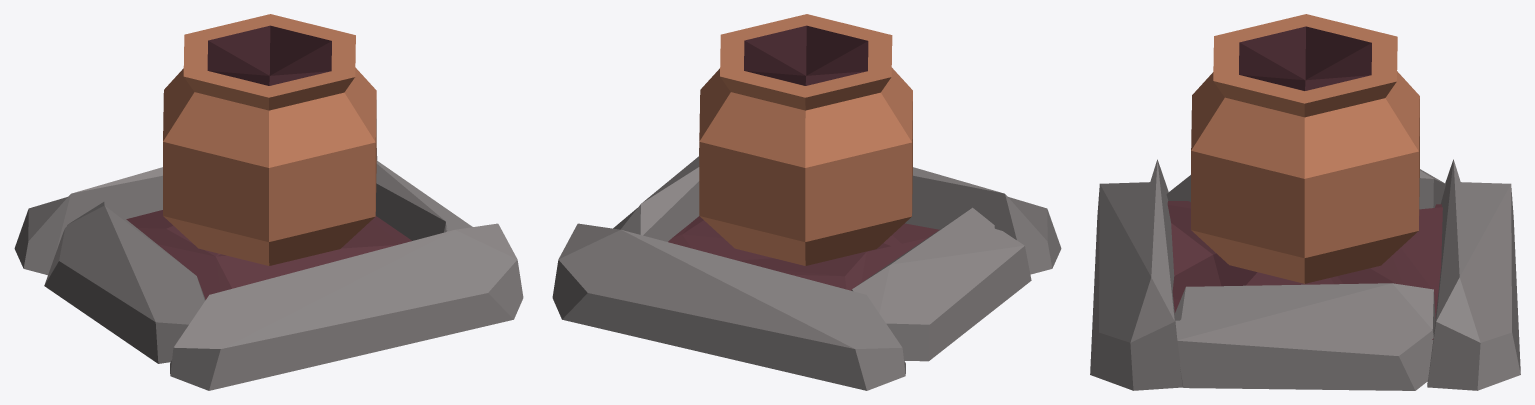
The model's file is SM_Cookingpot_Tribal.fbx.
The picture shows the model from 3 angles, left to right: view 1: azimuth 30°, elevation 25°; view 2: azimuth 150°, elevation 25°; view 3: azimuth 270°, elevation 25°; orthographic projection. The views are drawn at different scales.
Parts seen in each view (by area): view 1: SM_CookingPot_Tribal; view 2: SM_CookingPot_Tribal; view 3: SM_CookingPot_Tribal.
Boxes of the visible parts, x1,y1,x2,y2 form: SM_CookingPot_Tribal: [14, 14, 523, 390]; SM_CookingPot_Tribal: [552, 14, 1061, 390]; SM_CookingPot_Tribal: [1090, 14, 1520, 390].
Bounding box in the file's own units: 0.8285 × 0.5132 × 0.8285.
